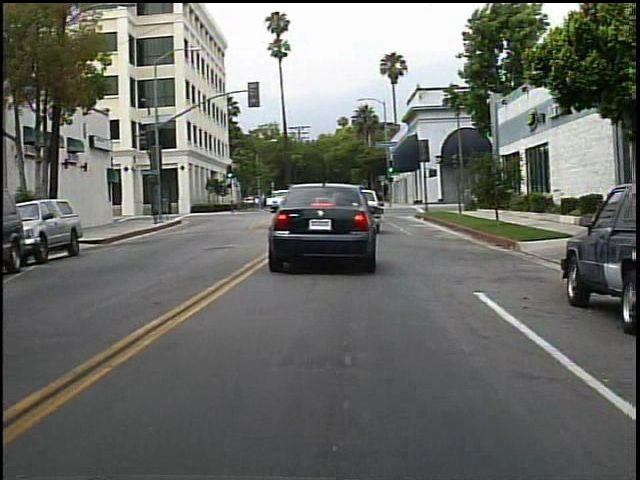person: (287, 184, 313, 221)
